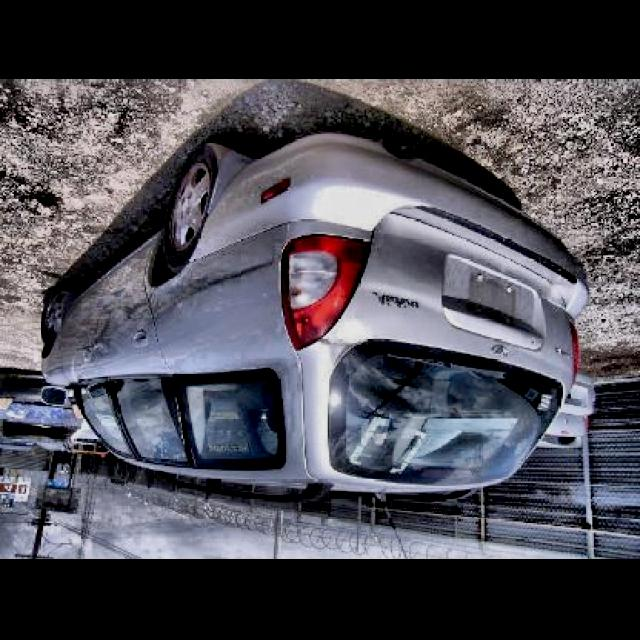silver: (38, 142, 590, 494)
